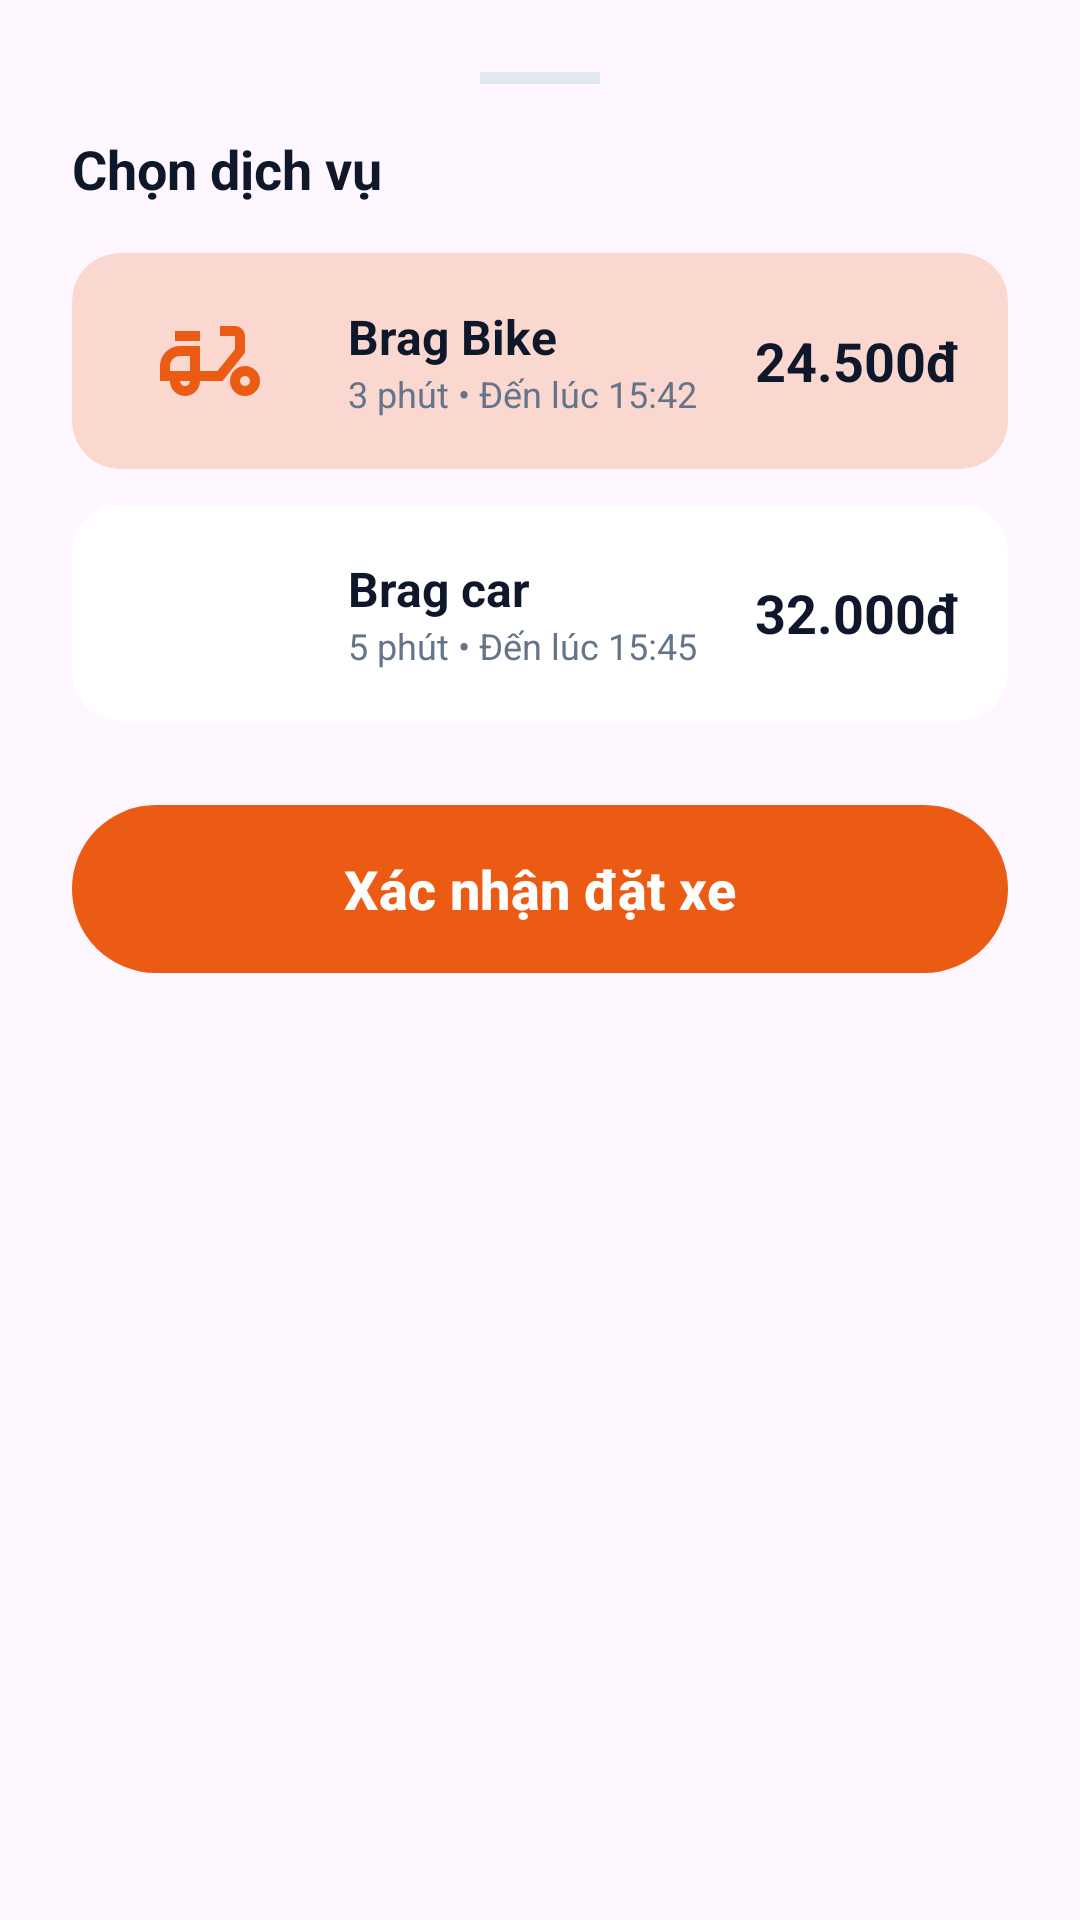

Locate icon controls on the screen. Image size 1080w x 1920h, boxes as bbox(x1, y1, x2, y2).
moped: bbox(160, 326, 260, 396)
